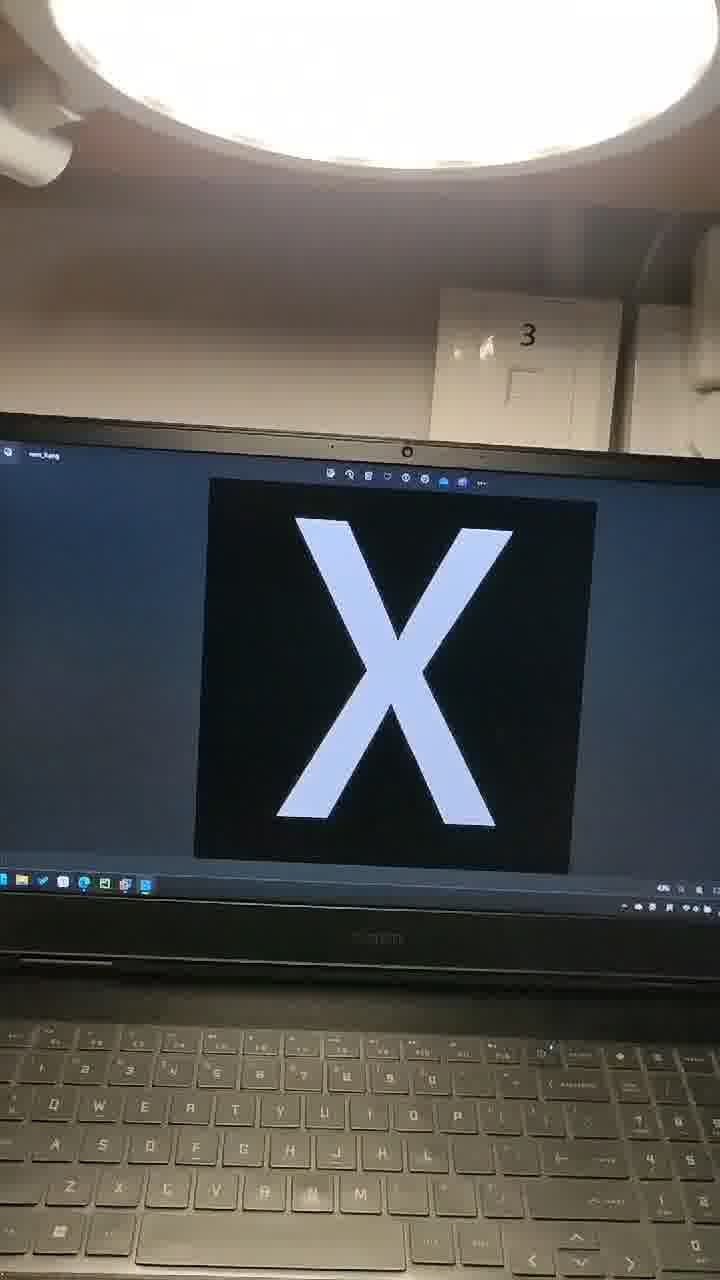X: (289, 505, 586, 900)
